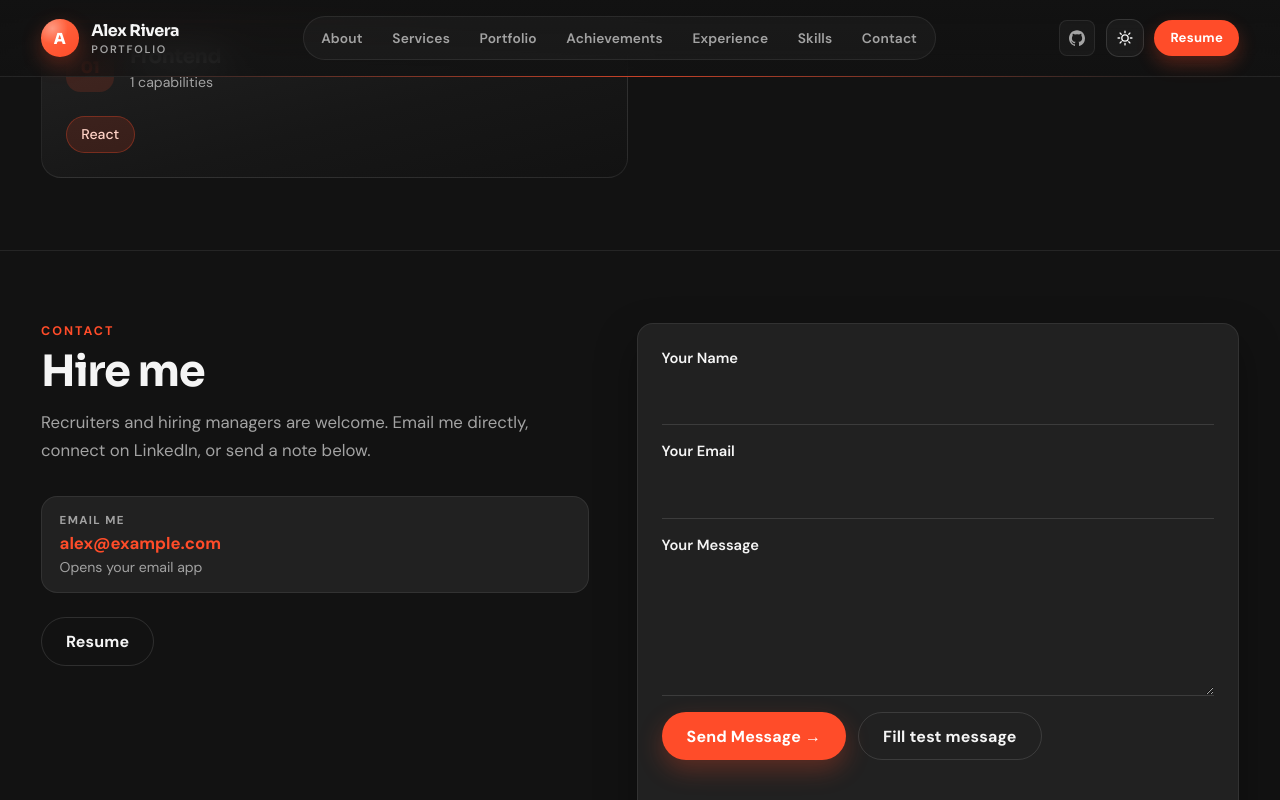
it: App › submits the contact form successfully
The image size is (1280, 800).
(page scrolled)
Type "Jordan Recruiter" into the field labelled "Your Name".
click(938, 401); type("Jordan Recruiter")  # box [662,376,1214,425]
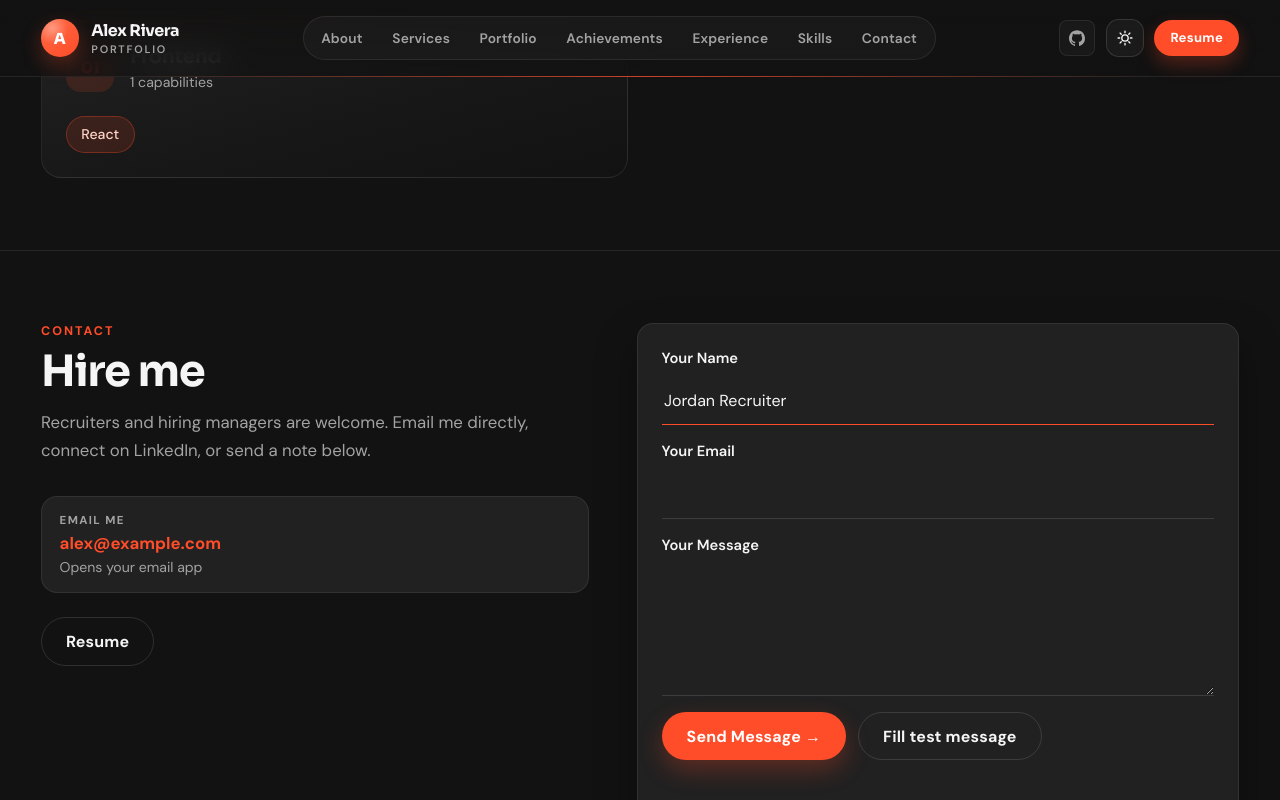
Type "jordan@example.com" into the field labelled "Your Email".
click(938, 494); type("jordan@example.com")  # box [662,469,1214,519]
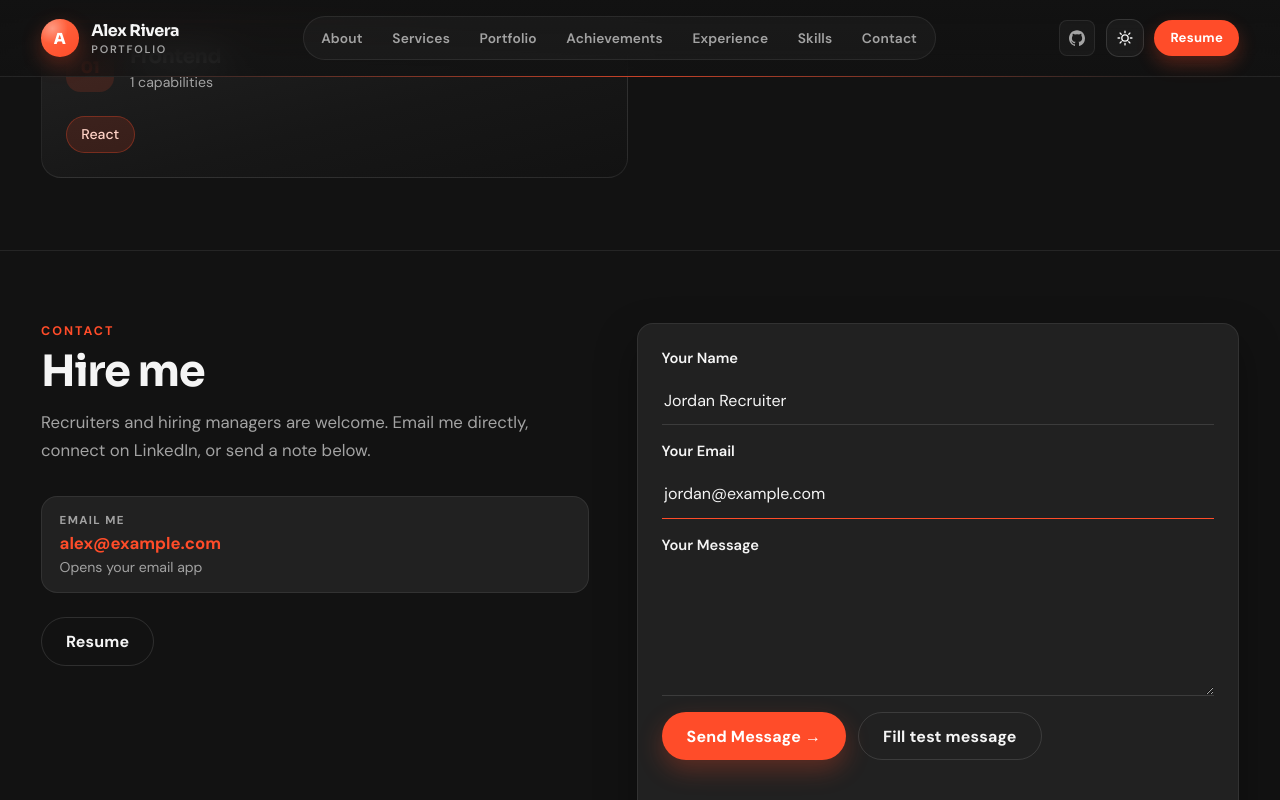
Type "I would like to discuss an opportunity with you." into the text box labelled "Your Message".
click(938, 629); type("I would like to discuss an opportunity with you.")  # box [662,563,1214,696]
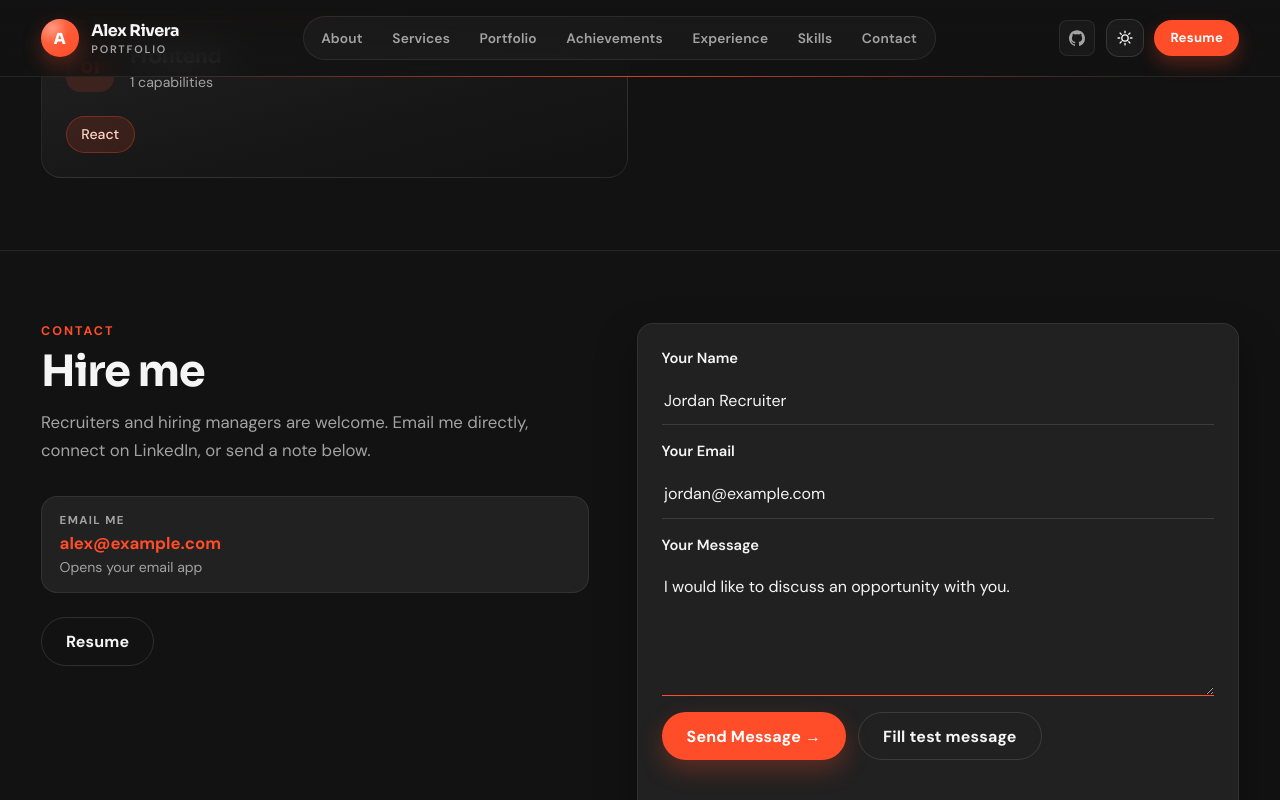
Click the button "Send Message →".
click(754, 736)  # box [662,712,846,760]
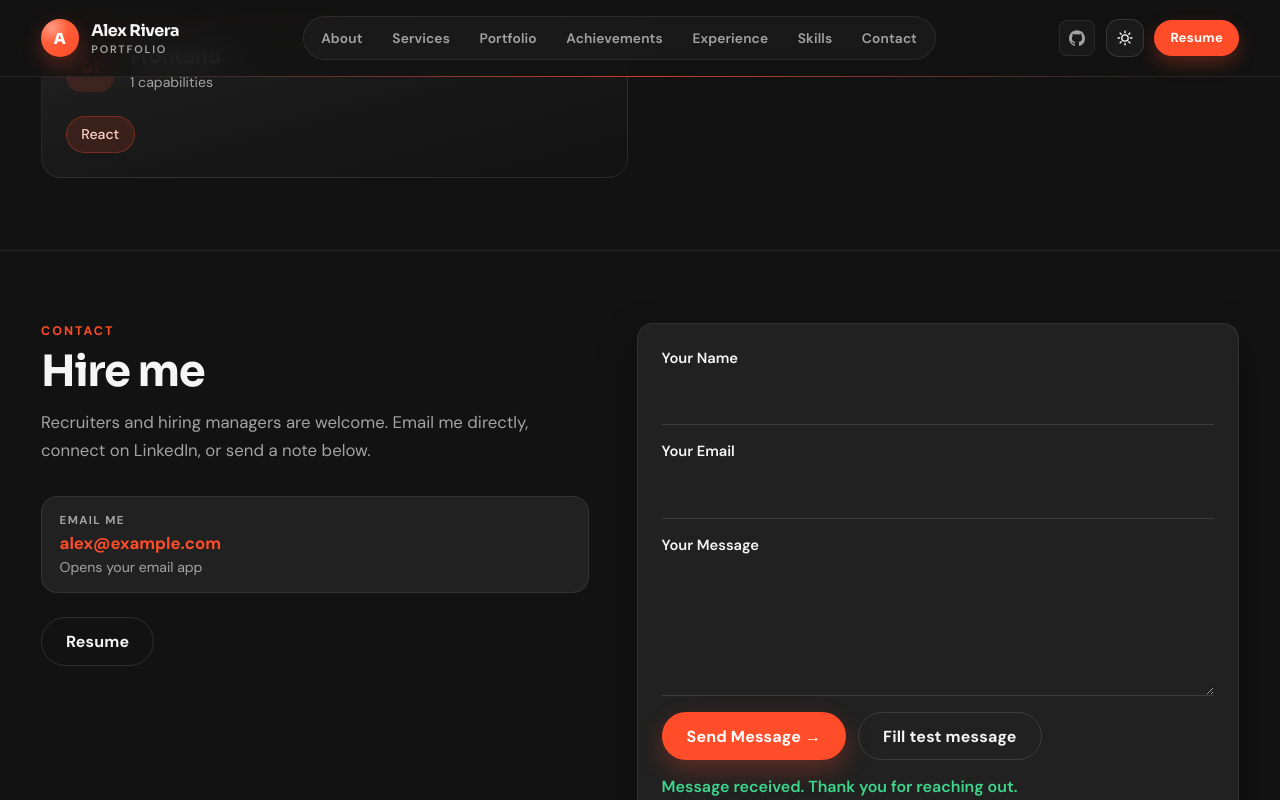
expect the text "Message received. Thank you for reaching out." is shown: met, box [662,776,1017,797]
